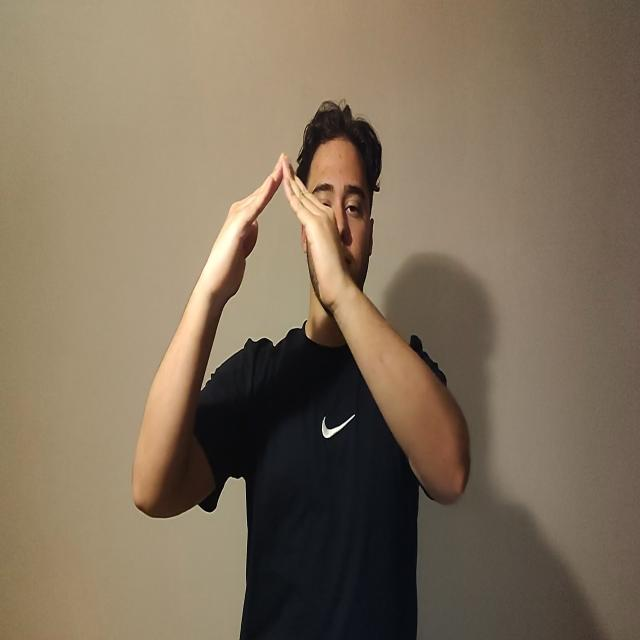house: (200, 154, 344, 314)
